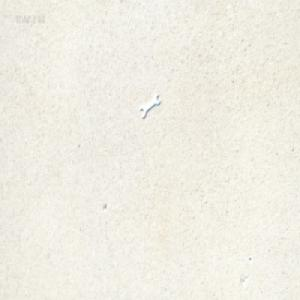Wrench: (139, 96, 161, 120)
